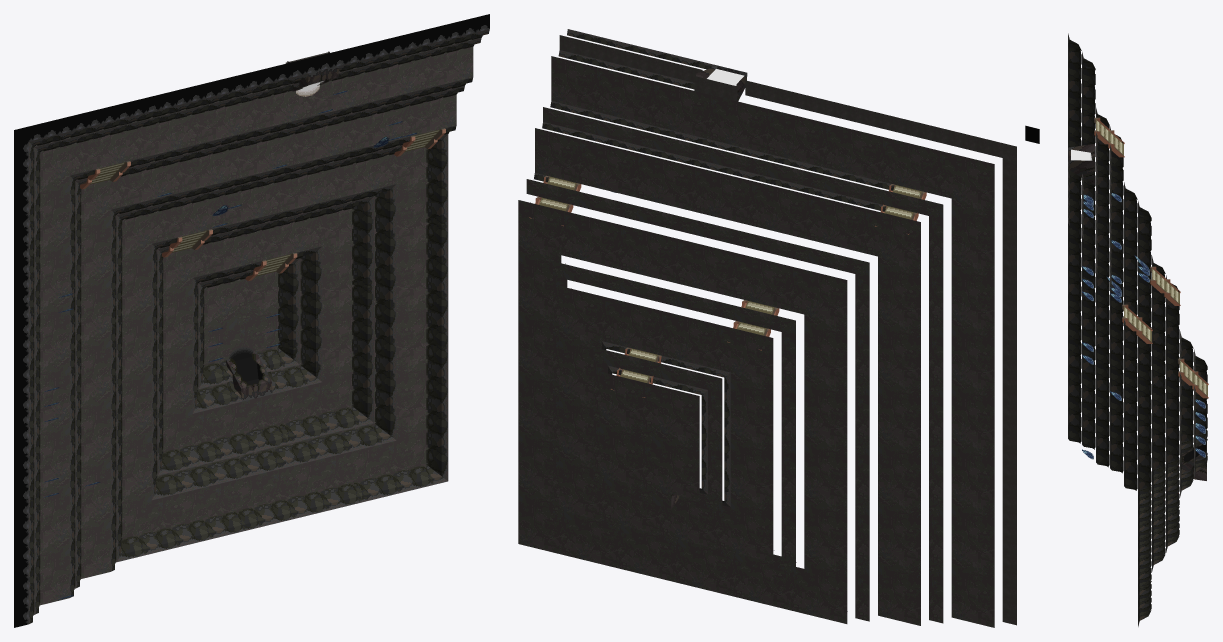
Rendered from HGRT-Caves-v1_18_16.obj.
3 views of the same model, side by side, from view 1: azimuth 30°, elevation 25°; view 2: azimuth 150°, elevation 25°; view 3: azimuth 270°, elevation 25° (orthographic). The views are drawn at different scales.
Visible parts, largest first — view 1: map; view 2: map; view 3: map.
Boxes of the visible parts, left/top/right/bottom form: map: left=14, top=14, right=489, bottom=627; map: left=518, top=29, right=1039, bottom=627; map: left=1068, top=33, right=1208, bottom=626.
Bounding box in the file's own units: 33 × 33 × 10.07.
12 materials, 12 textured.
